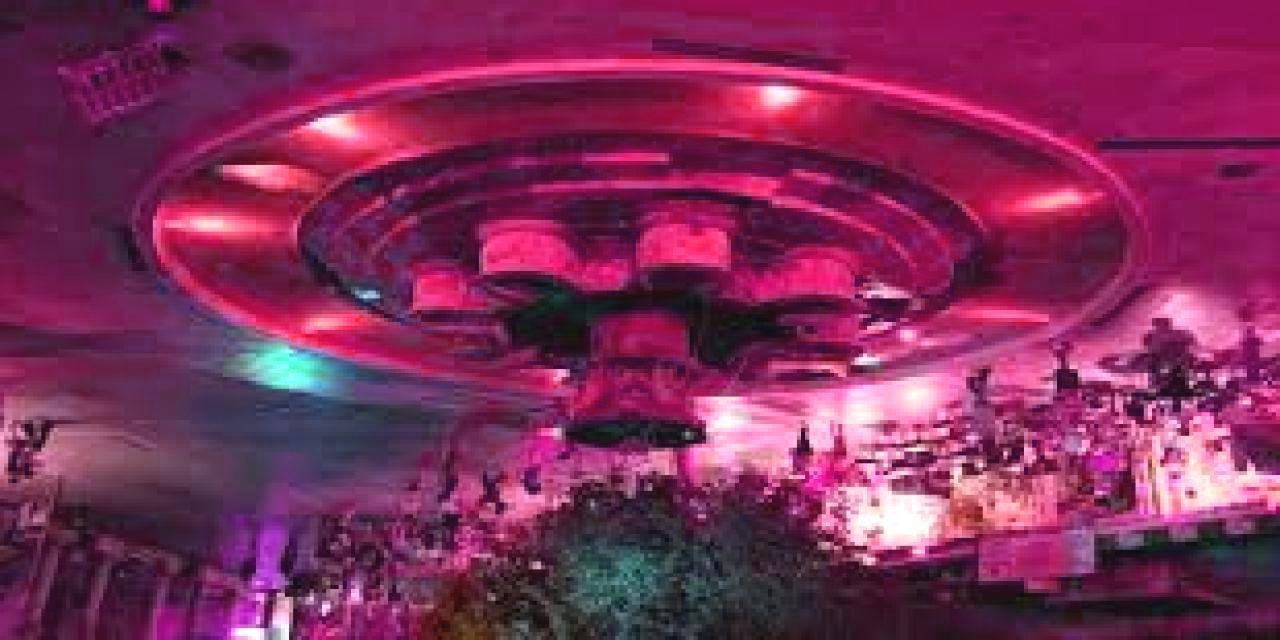Liontaria: (405, 206, 869, 456)
